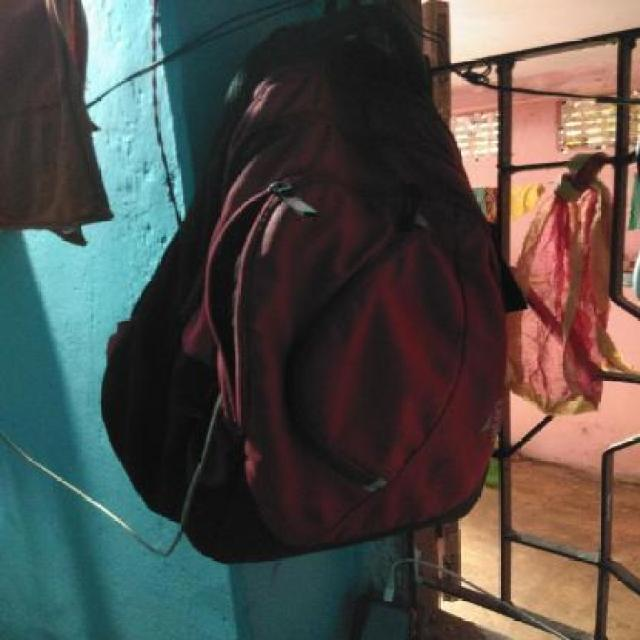backpack: (97, 2, 534, 570)
